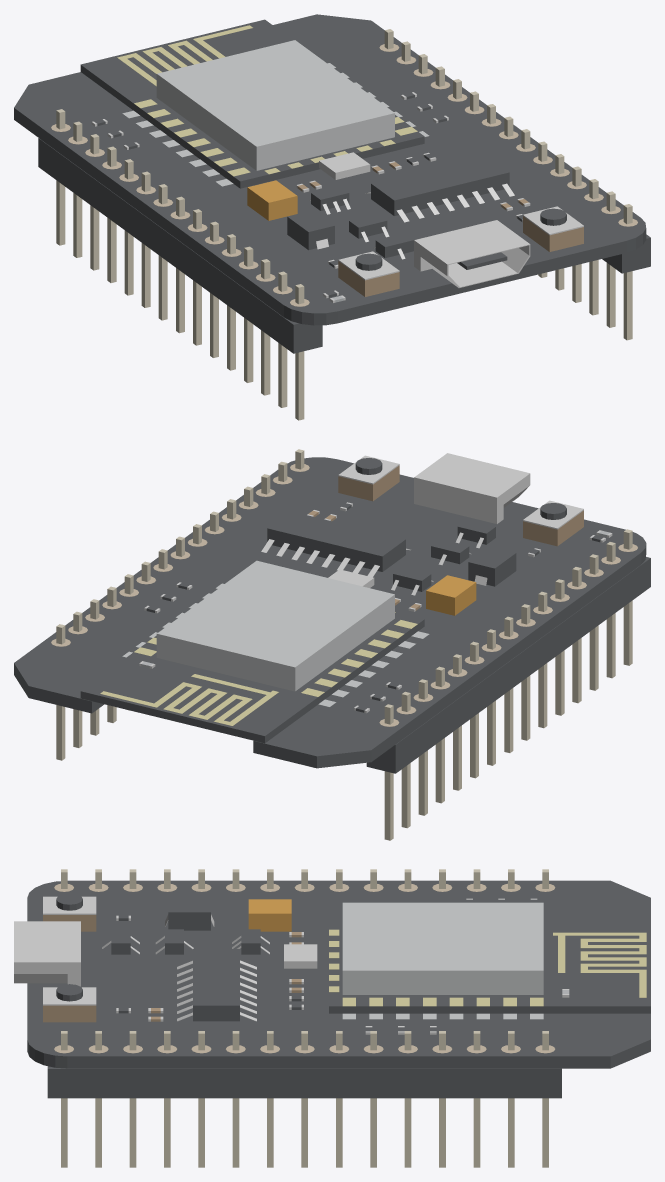
The model's file is esp32.glb.
3 views of the same model, one above another, from view 1: azimuth 30°, elevation 25°; view 2: azimuth 150°, elevation 25°; view 3: azimuth 270°, elevation 25° (orthographic).
Visible parts, largest first — view 1: Mesh_Mesh_head_geo.001_lambert2SG.001; view 2: Mesh_Mesh_head_geo.001_lambert2SG.001; view 3: Mesh_Mesh_head_geo.001_lambert2SG.001.
Part boxes in pixels (x1,y1,x2,y2): Mesh_Mesh_head_geo.001_lambert2SG.001: [14, 14, 650, 420]; Mesh_Mesh_head_geo.001_lambert2SG.001: [14, 449, 650, 840]; Mesh_Mesh_head_geo.001_lambert2SG.001: [14, 869, 650, 1167].
Size of the model in its own units: 31 by 12.23 by 47.5.
